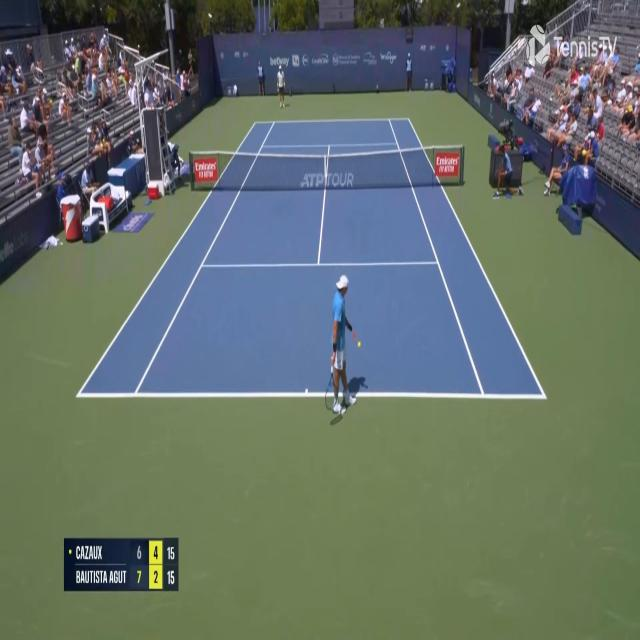tennis-player: (326, 271, 362, 422), (276, 65, 288, 109)
